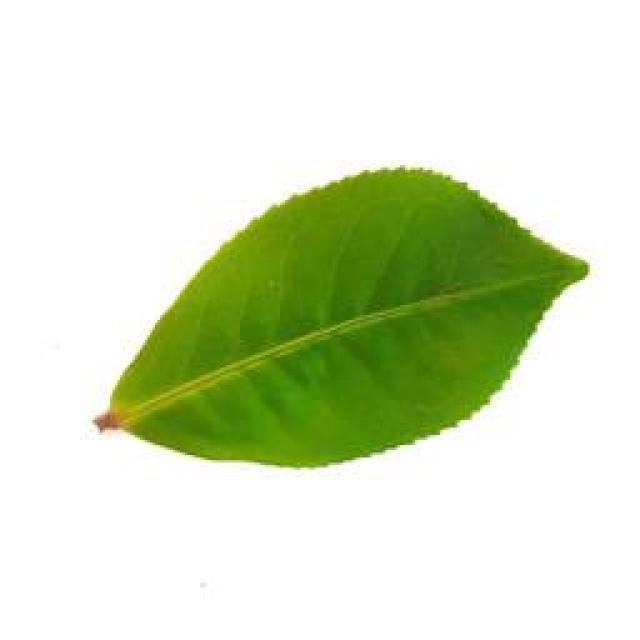Healthy: (91, 158, 606, 469)
